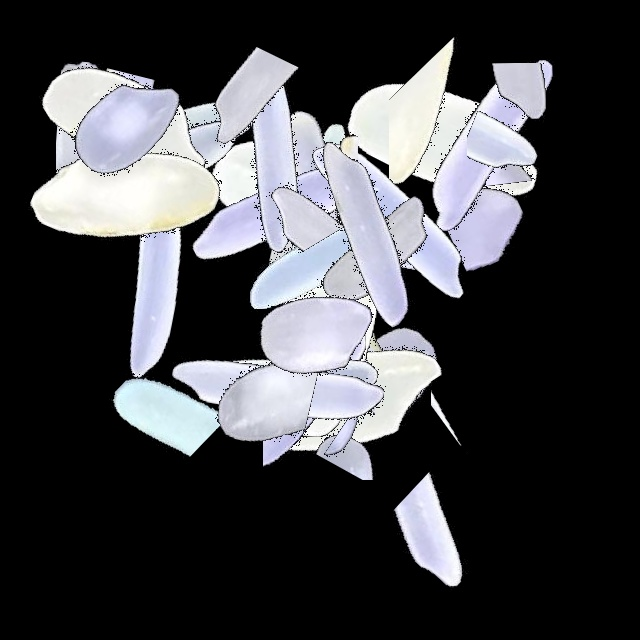Broken: (263, 263, 432, 513), (218, 49, 387, 299), (194, 87, 359, 337), (209, 268, 374, 518), (160, 0, 316, 250), (111, 314, 361, 464), (109, 0, 253, 250), (390, 138, 640, 280), (56, 6, 196, 256), (83, 269, 223, 519), (341, 463, 591, 595), (389, 0, 510, 250), (390, 138, 640, 258), (431, 0, 551, 250), (238, 61, 356, 311), (59, 2, 171, 252), (390, 63, 640, 172), (182, 342, 432, 450), (431, 264, 537, 514), (286, 244, 388, 494), (250, 380, 500, 480), (467, 22, 566, 272), (265, 395, 515, 493), (344, 117, 435, 367), (205, 177, 455, 263), (294, 281, 375, 531), (220, 339, 470, 418), (281, 64, 358, 314)
Full: (171, 86, 421, 336), (260, 252, 510, 502), (173, 104, 423, 354), (222, 251, 472, 501), (217, 270, 467, 520), (187, 87, 437, 337), (46, 24, 296, 274), (198, 212, 448, 462), (322, 16, 572, 266), (150, 88, 400, 338), (30, 160, 280, 410), (369, 21, 619, 271), (266, 91, 516, 341), (0, 0, 250, 250), (162, 253, 412, 503), (150, 265, 400, 515), (0, 69, 250, 319), (200, 133, 450, 383), (251, 128, 501, 378), (235, 109, 485, 359), (186, 204, 436, 454)
